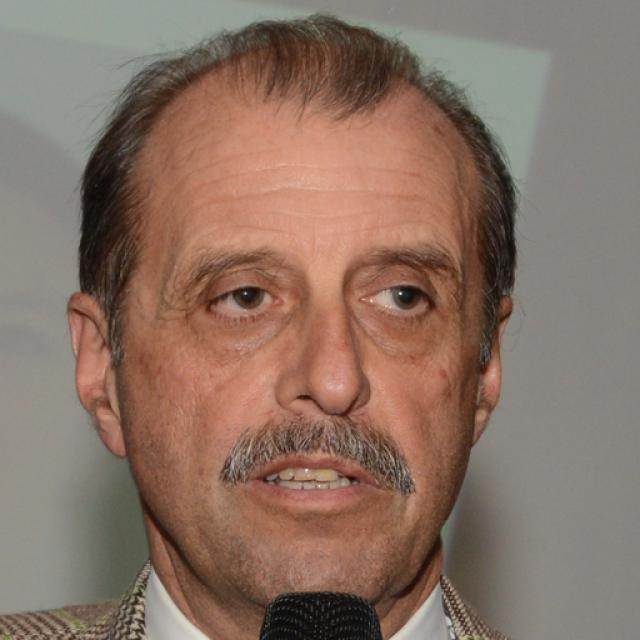Dark Circle: (350, 301, 432, 354), (203, 309, 293, 351)
Wrinkle: (199, 181, 434, 210), (189, 159, 434, 186), (163, 145, 289, 189), (333, 217, 440, 237), (233, 220, 295, 240)
